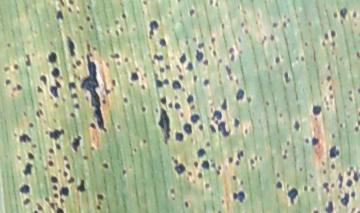tarspot: (81, 56, 108, 132), (159, 108, 170, 143), (147, 18, 158, 41), (50, 80, 62, 97), (287, 187, 298, 205), (48, 128, 64, 140), (218, 123, 230, 137), (329, 145, 340, 160), (22, 162, 33, 177), (233, 190, 245, 203), (72, 135, 81, 152), (340, 192, 350, 206), (68, 38, 75, 57), (336, 172, 344, 188), (195, 48, 204, 62), (18, 134, 32, 143), (77, 178, 86, 192), (175, 163, 186, 174), (311, 104, 322, 115), (171, 80, 182, 90), (235, 89, 245, 100), (19, 184, 30, 194), (48, 52, 57, 64), (86, 42, 93, 57), (130, 72, 140, 82), (158, 38, 168, 48), (212, 110, 222, 120), (59, 186, 69, 196), (184, 124, 193, 135), (25, 54, 32, 67), (201, 160, 210, 170), (40, 74, 48, 85), (176, 131, 184, 142), (108, 52, 120, 59), (293, 120, 300, 132), (283, 71, 290, 83), (340, 7, 347, 19), (326, 201, 333, 213), (55, 11, 64, 20), (155, 79, 164, 88), (68, 81, 76, 91), (190, 115, 200, 123), (180, 52, 186, 65), (233, 118, 240, 129), (225, 65, 232, 76), (323, 182, 330, 193), (89, 122, 98, 130), (51, 69, 60, 77), (186, 95, 194, 104), (198, 148, 206, 157), (209, 125, 217, 134), (54, 141, 62, 150), (26, 151, 34, 160), (154, 54, 164, 61), (237, 151, 244, 161), (354, 171, 360, 182), (222, 98, 227, 111), (36, 85, 44, 93), (22, 198, 30, 206), (69, 92, 78, 99), (110, 78, 117, 87), (312, 137, 319, 146), (269, 33, 276, 42), (100, 162, 109, 169), (104, 89, 112, 96), (122, 96, 129, 104), (163, 78, 170, 86), (203, 79, 210, 87), (271, 21, 279, 28), (346, 179, 353, 187), (50, 176, 58, 183), (160, 96, 166, 105), (187, 62, 193, 71), (193, 74, 198, 84), (73, 103, 80, 110), (69, 112, 76, 119), (4, 66, 11, 73), (141, 71, 148, 78), (197, 41, 204, 48), (228, 46, 235, 53), (325, 75, 332, 82), (47, 160, 54, 167), (67, 177, 74, 184), (217, 79, 224, 86), (35, 111, 41, 119), (178, 72, 184, 80), (176, 65, 182, 73), (203, 58, 209, 66), (274, 56, 280, 64), (324, 32, 330, 40), (49, 202, 55, 210), (65, 163, 71, 171), (96, 194, 104, 200), (190, 8, 195, 17), (198, 123, 203, 132), (75, 59, 81, 66), (70, 63, 77, 69), (13, 63, 19, 70), (114, 30, 120, 37), (113, 19, 120, 25), (121, 13, 127, 20), (133, 66, 140, 72), (189, 105, 196, 111), (167, 9, 173, 16), (191, 36, 197, 43), (250, 165, 256, 172), (234, 78, 240, 85), (262, 34, 268, 41), (300, 56, 306, 63), (326, 64, 332, 71), (348, 96, 354, 103), (350, 191, 356, 198), (276, 181, 282, 188), (197, 172, 203, 179), (51, 185, 58, 191), (237, 49, 244, 55), (220, 22, 225, 30), (230, 54, 235, 62), (237, 36, 242, 44), (352, 10, 357, 18), (331, 30, 336, 38), (36, 205, 44, 210), (59, 1, 65, 7), (210, 163, 216, 169), (330, 164, 336, 170), (228, 76, 234, 82), (328, 94, 334, 100), (309, 186, 315, 192), (28, 122, 34, 128), (63, 155, 69, 161), (63, 171, 69, 177), (131, 26, 137, 32), (86, 15, 91, 22), (7, 42, 12, 49), (5, 79, 12, 84), (18, 84, 23, 91), (123, 56, 128, 63), (119, 26, 124, 33), (141, 83, 146, 90), (141, 107, 146, 114), (158, 68, 165, 73), (165, 63, 170, 70), (175, 103, 180, 110), (184, 39, 189, 46), (210, 37, 215, 44), (193, 161, 198, 168), (228, 157, 233, 164), (247, 96, 252, 103), (240, 21, 245, 28), (242, 9, 247, 16), (282, 21, 287, 28), (328, 84, 333, 91), (339, 123, 344, 130), (116, 123, 121, 130), (48, 148, 55, 153), (30, 143, 37, 148), (15, 155, 22, 160), (57, 208, 64, 213), (189, 137, 194, 144), (141, 1, 149, 5), (215, 1, 219, 9), (323, 168, 327, 176), (240, 179, 244, 187), (87, 5, 92, 11), (78, 26, 84, 31), (89, 24, 94, 30), (105, 62, 110, 68), (54, 102, 59, 108), (154, 107, 159, 113), (105, 28, 110, 34), (179, 112, 184, 118), (174, 95, 179, 101), (217, 165, 223, 170), (235, 161, 240, 167), (249, 160, 255, 165), (331, 133, 336, 139), (294, 55, 299, 61), (333, 12, 338, 18), (321, 41, 326, 47), (348, 89, 353, 95), (325, 107, 331, 112), (325, 100, 330, 106), (330, 182, 335, 188), (349, 165, 354, 171), (309, 173, 314, 179), (303, 186, 308, 192), (275, 172, 280, 178), (232, 175, 237, 181), (205, 183, 210, 189), (170, 188, 175, 194), (142, 138, 147, 144), (22, 111, 27, 117), (83, 155, 89, 160), (45, 197, 50, 203), (52, 118, 57, 124), (53, 194, 59, 199), (59, 198, 65, 203), (68, 7, 72, 14), (169, 101, 173, 108), (213, 50, 217, 57), (321, 160, 325, 167), (304, 40, 308, 47), (256, 11, 260, 18), (355, 127, 359, 134), (69, 1, 74, 6), (76, 10, 81, 15), (102, 99, 107, 104), (208, 1, 213, 6), (206, 142, 211, 147), (214, 120, 219, 125), (265, 101, 270, 106), (244, 29, 249, 34), (188, 171, 193, 176), (54, 202, 59, 207), (61, 97, 66, 102), (96, 205, 101, 210), (192, 179, 197, 184), (49, 41, 54, 46), (74, 73, 78, 79), (85, 95, 89, 101), (11, 88, 17, 92), (37, 102, 43, 106), (40, 109, 44, 115), (208, 45, 212, 51), (254, 155, 258, 161), (283, 154, 287, 160), (284, 148, 288, 154), (286, 141, 290, 147), (245, 128, 248, 136), (305, 138, 309, 144), (340, 19, 344, 25), (332, 41, 336, 47), (356, 52, 360, 58), (339, 56, 343, 62), (346, 172, 352, 176), (351, 207, 355, 213), (221, 199, 225, 205), (185, 200, 188, 208), (133, 147, 137, 153), (90, 146, 96, 150), (47, 155, 53, 159), (57, 169, 63, 173), (299, 166, 302, 173), (357, 119, 360, 126), (92, 47, 97, 51), (174, 159, 178, 164), (279, 113, 283, 118), (218, 58, 222, 63), (237, 5, 241, 10), (308, 21, 312, 26), (354, 22, 358, 27), (217, 170, 221, 175), (171, 197, 176, 201), (122, 170, 126, 175), (97, 201, 102, 205), (260, 156, 263, 162), (270, 65, 273, 71), (117, 62, 121, 66), (283, 15, 287, 19), (314, 209, 318, 213), (288, 18, 291, 23), (78, 77, 81, 81), (358, 88, 360, 94), (358, 112, 360, 118), (33, 211, 38, 213), (357, 210, 360, 213), (176, 1, 180, 3), (218, 211, 222, 213)
